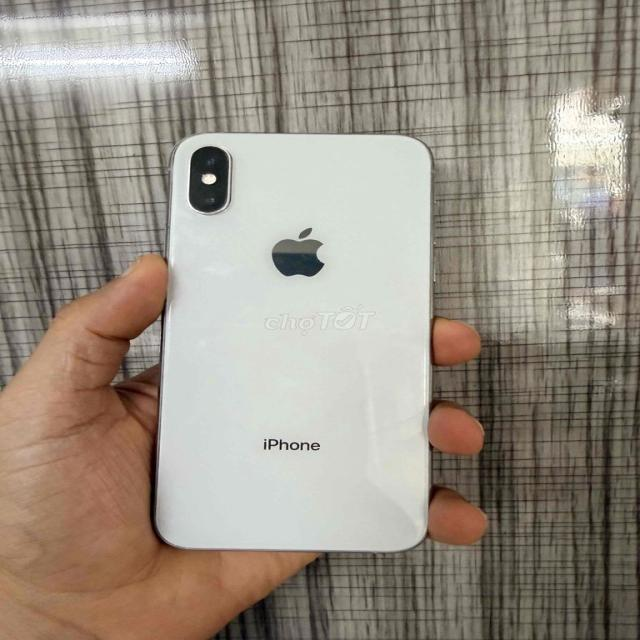gen_x_xs: (158, 130, 438, 556)
